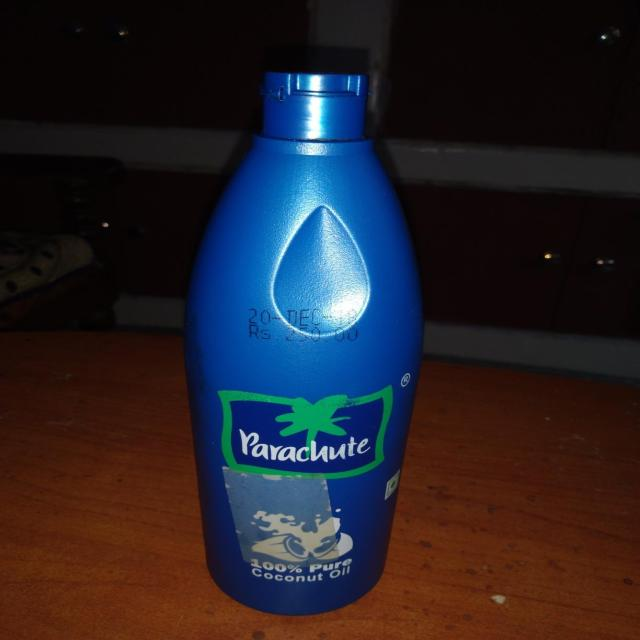parachute_oil: (168, 64, 436, 620)
